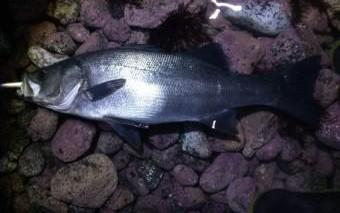fish: (22, 43, 319, 150)
